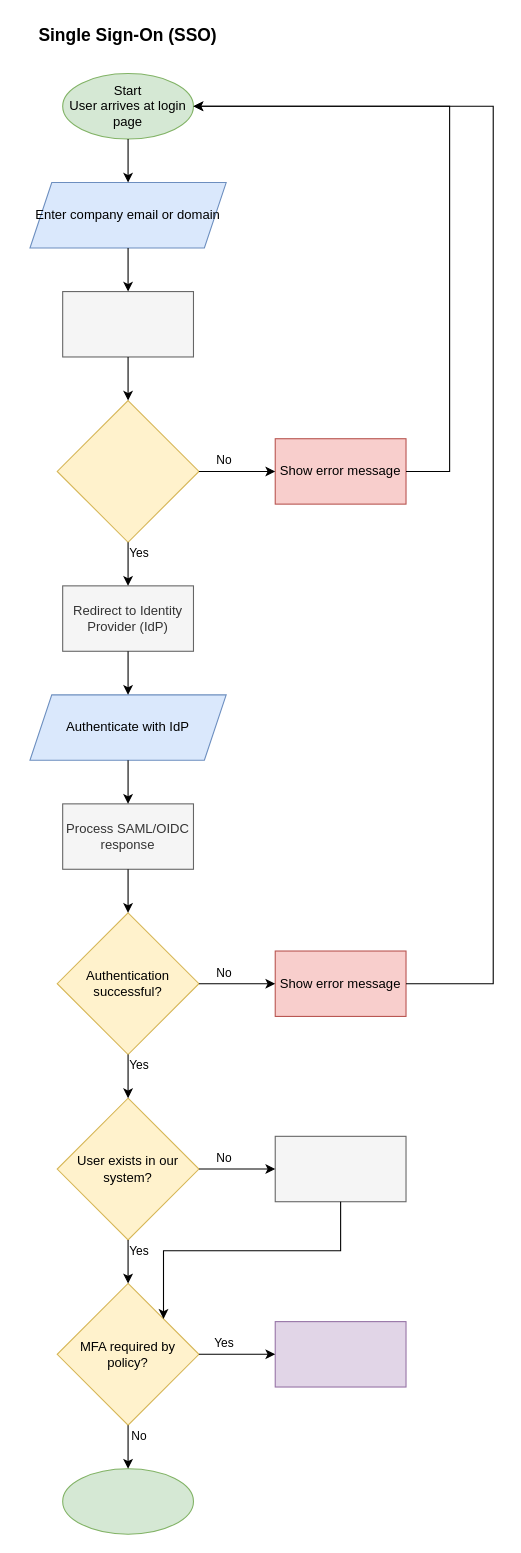
Some shapes in this 521 by 1553 pixel diagram are drawn without their labels. The centre of each missing label's shape, as x and y in pixels:
"Check if domain has SSO configured" belongs at point 127,323.
"Create user account (JIT provisioning)" belongs at point 340,1168.
"End User logged in successfully" belongs at point 127,1501.
"Proceed to MFA flow" belongs at point 340,1354.
"SSO configured?" belongs at point 127,470.
